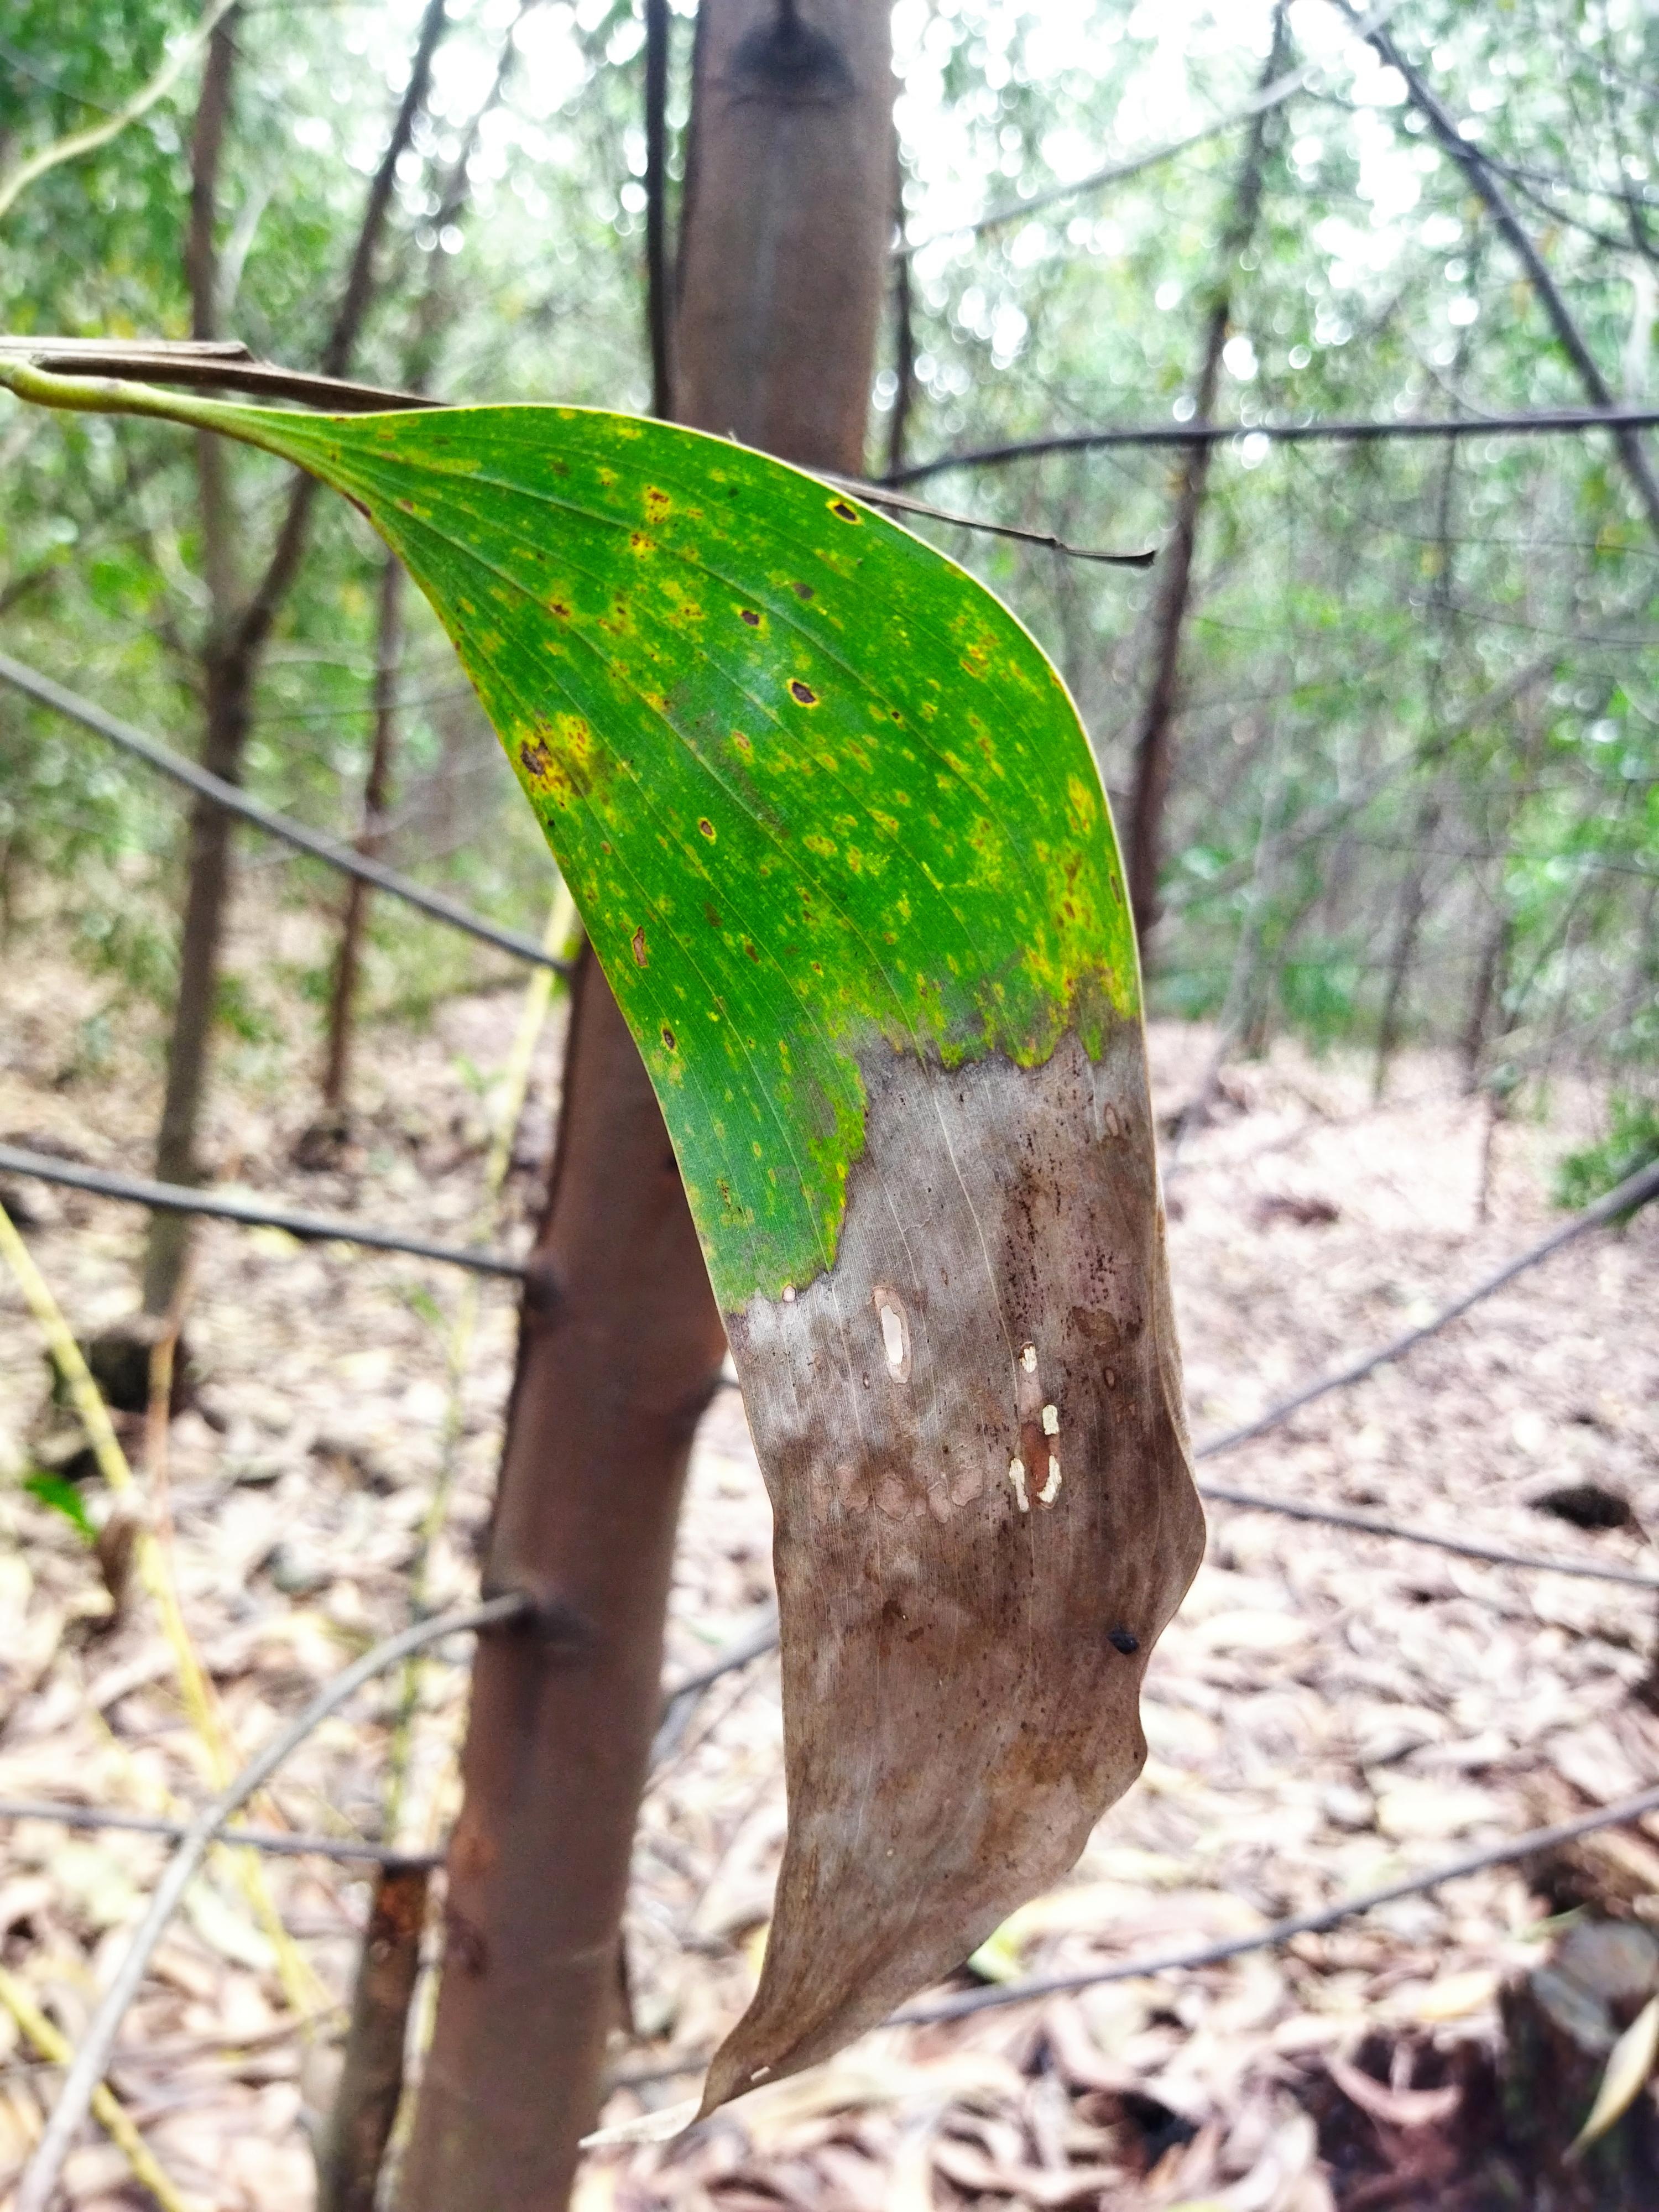Cylindrocladium: (732, 1029, 1173, 2088)
Xanthomonas: (356, 411, 1112, 982)
